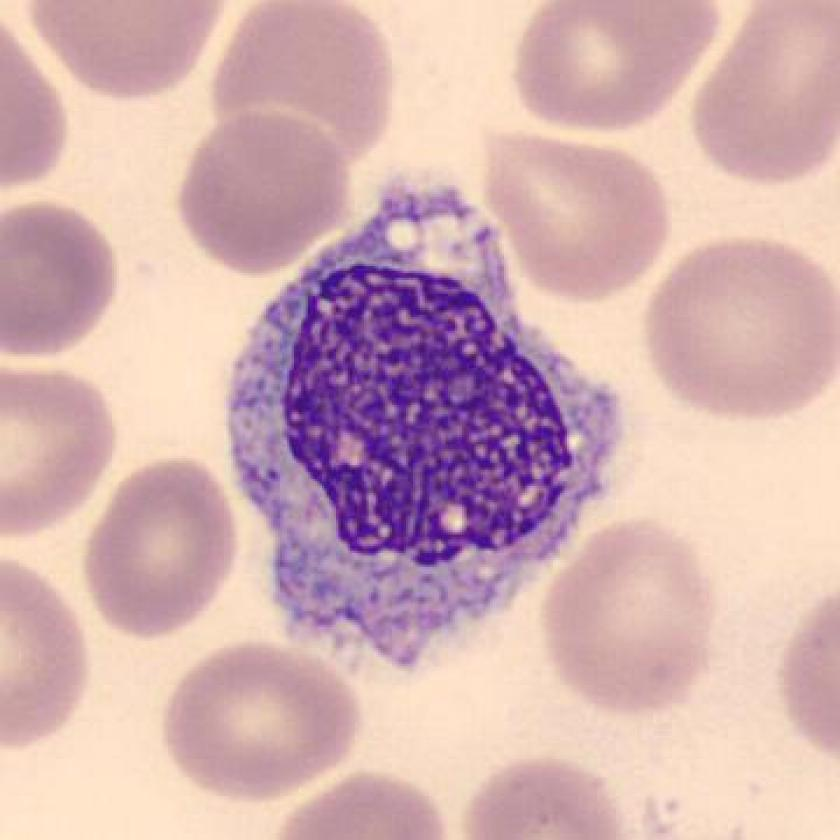monocyte: (204, 161, 643, 705)
